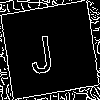J: (25, 24, 56, 76)
